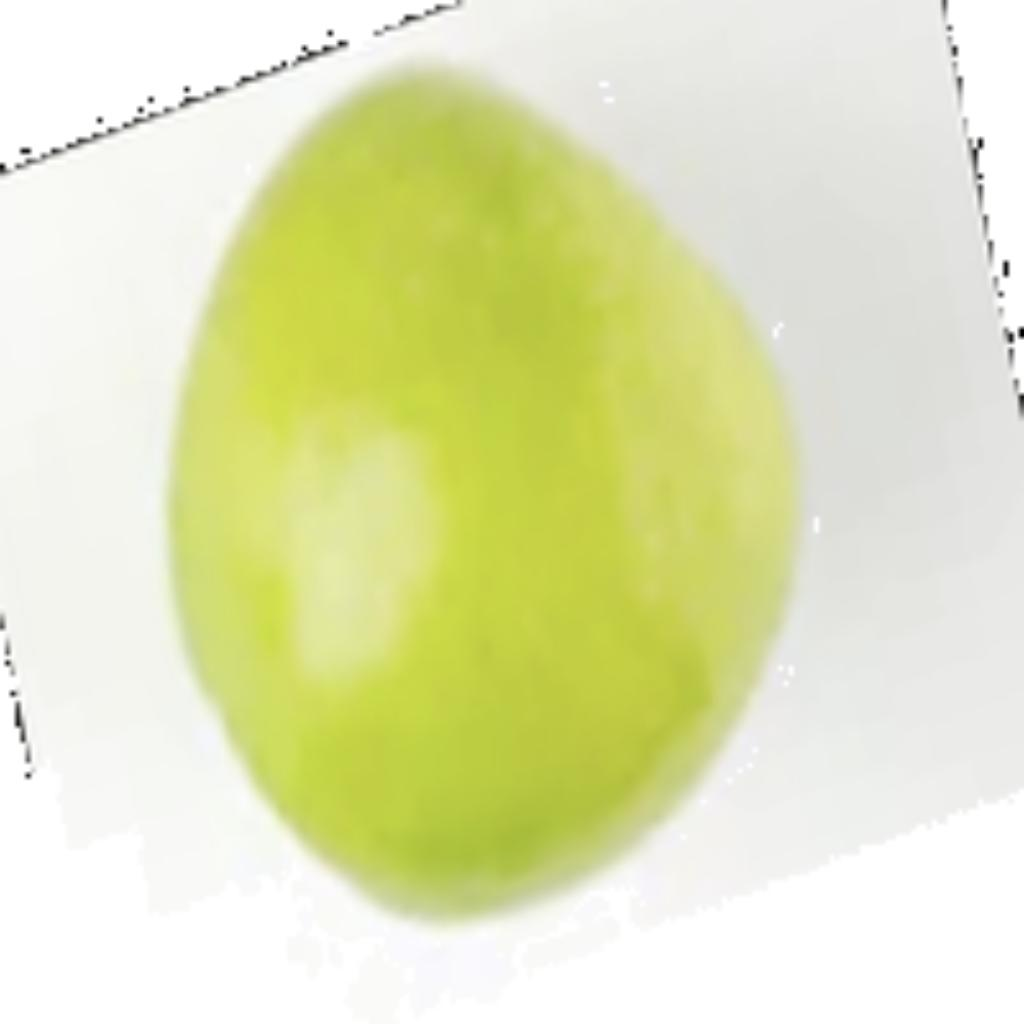apple: (154, 82, 819, 896)
